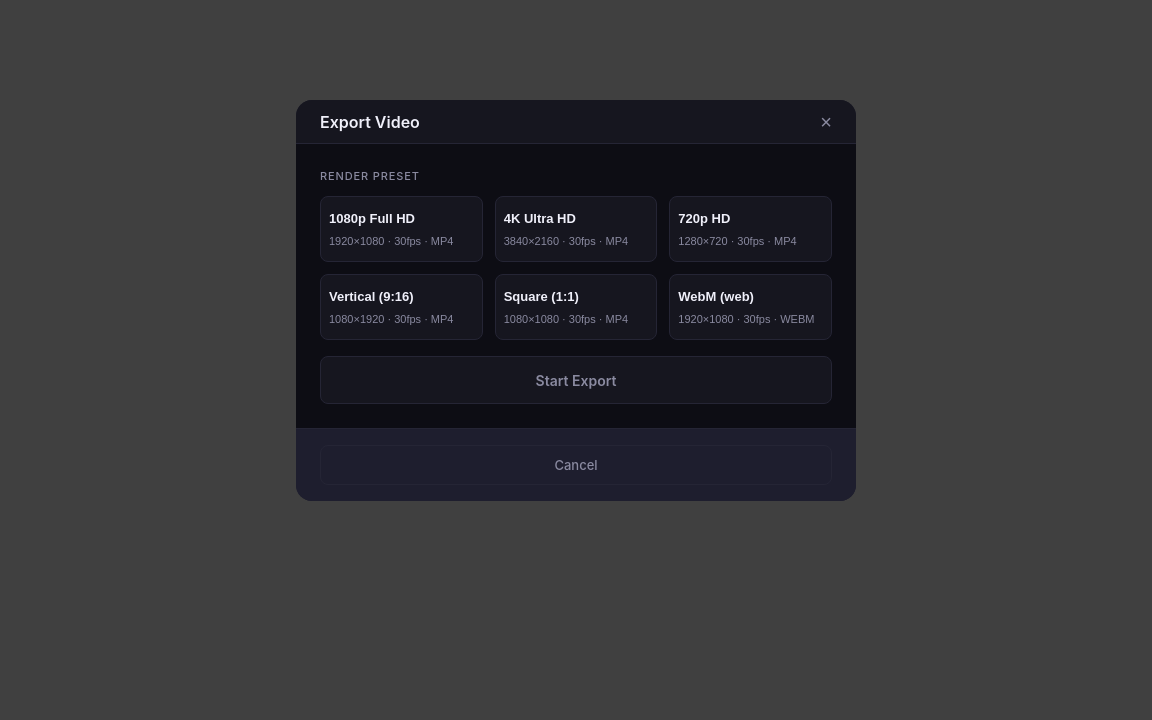
Scenario: ExportModal › enables the Start Export button after a preset is selected
Click the radio button labelled "1080p Full HD 1920×1080 · 30fps · MP4".
click(401, 229)  # box [320,196,483,262]
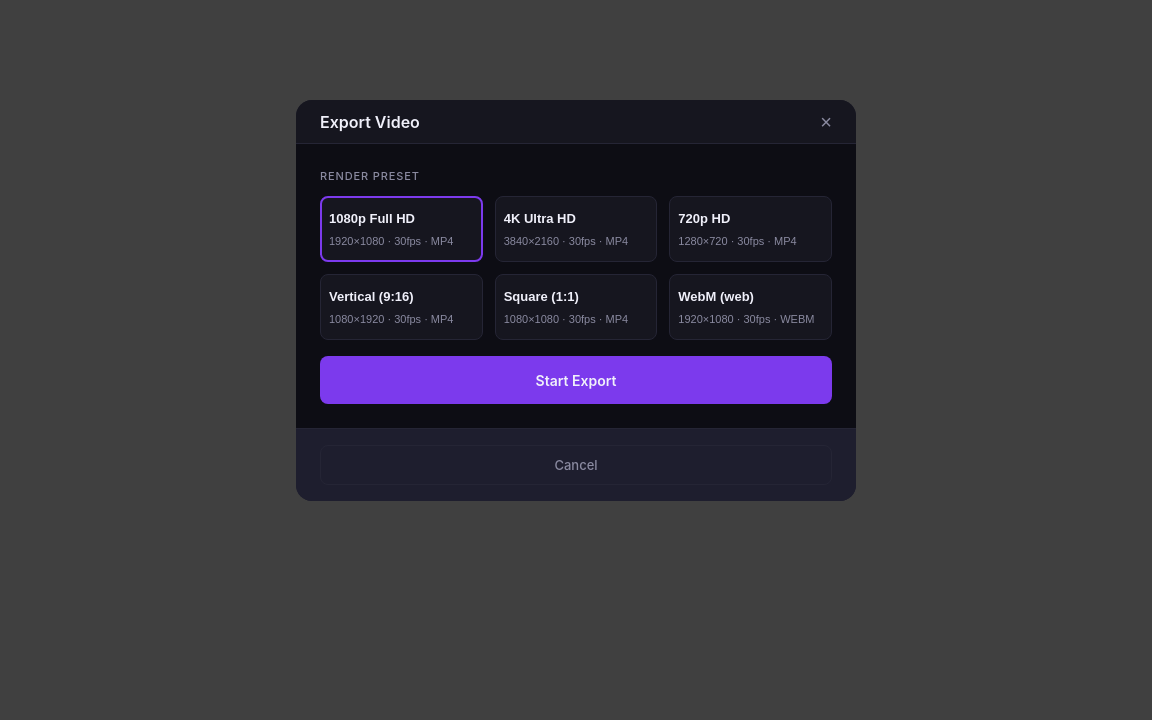
Check: the button "Start Export" is enabled, box [320,356,832,404]
